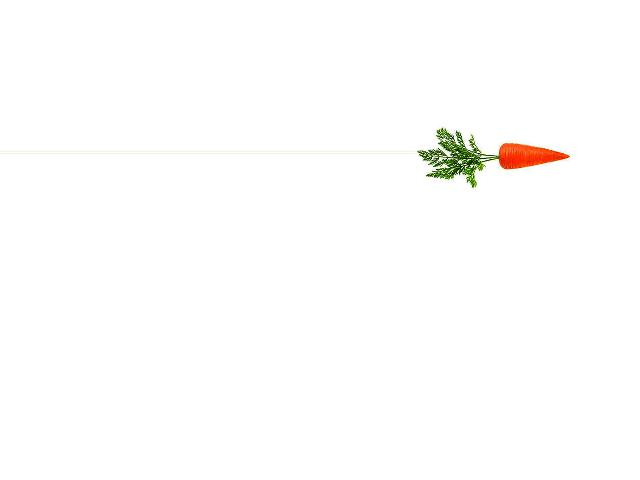carrot: (495, 136, 570, 177)
